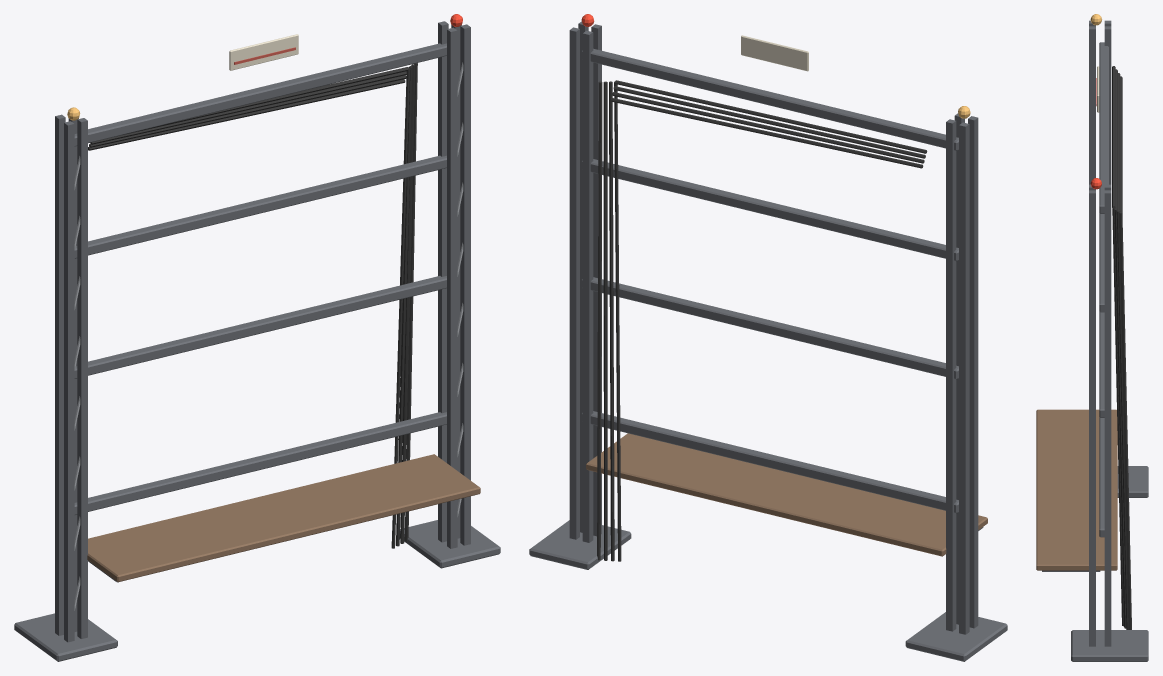
File: Garage_ScreenRack.glb
3 renders of one model, left to right at view 1: azimuth 30°, elevation 25°; view 2: azimuth 150°, elevation 25°; view 3: azimuth 270°, elevation 25°, orthographic. The views are drawn at different scales.
Parts seen in each view (by area): view 1: Garage_ScreenRack; view 2: Garage_ScreenRack; view 3: Garage_ScreenRack.
Part boxes in pixels (x1,y1,x2,y2): Garage_ScreenRack: (14,14,500,661); Garage_ScreenRack: (529,14,1007,661); Garage_ScreenRack: (1036,14,1148,661).
Size of the model in its own units: 2.32 by 2.77 by 0.58.
